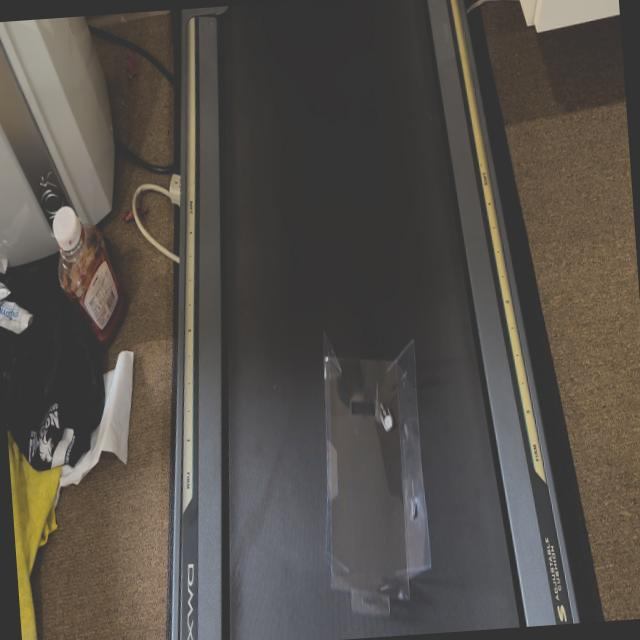Trash: (294, 326, 458, 621)
